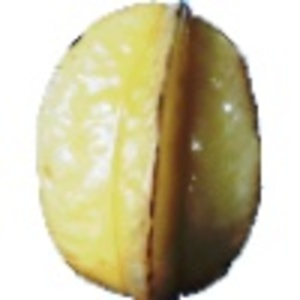carambola: (36, 1, 264, 300)
